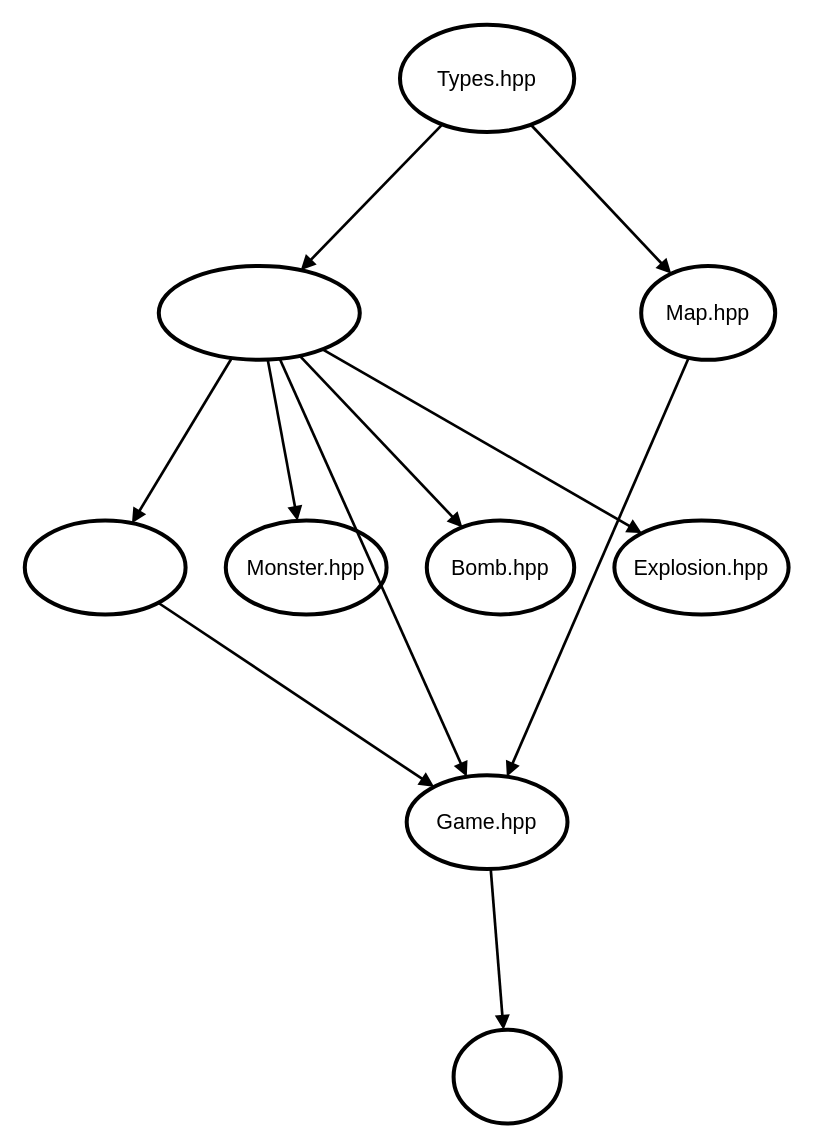
The diagram is 813 pixels wide and 1148 high, and some of its shapes have lost their labels. The centre of each missing label's shape, as x and y in pixels:
GameObject.hpp: point 258,312
main: point 506,1076
Player.hpp: point 104,567
